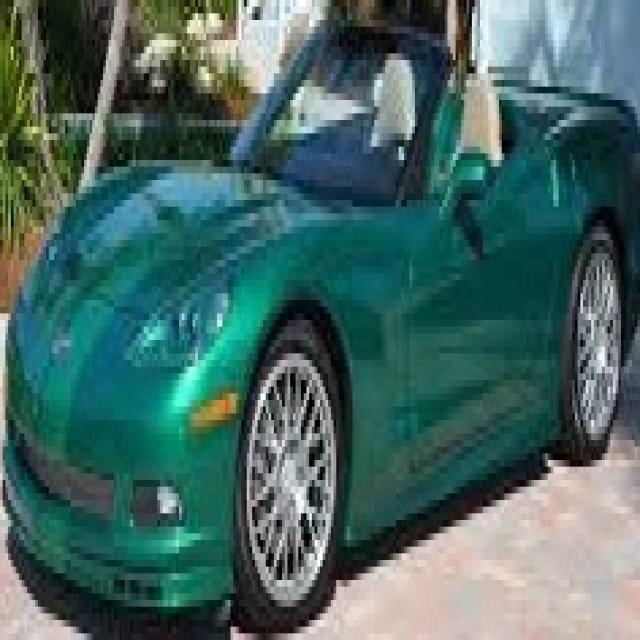green: (0, 19, 640, 613)
